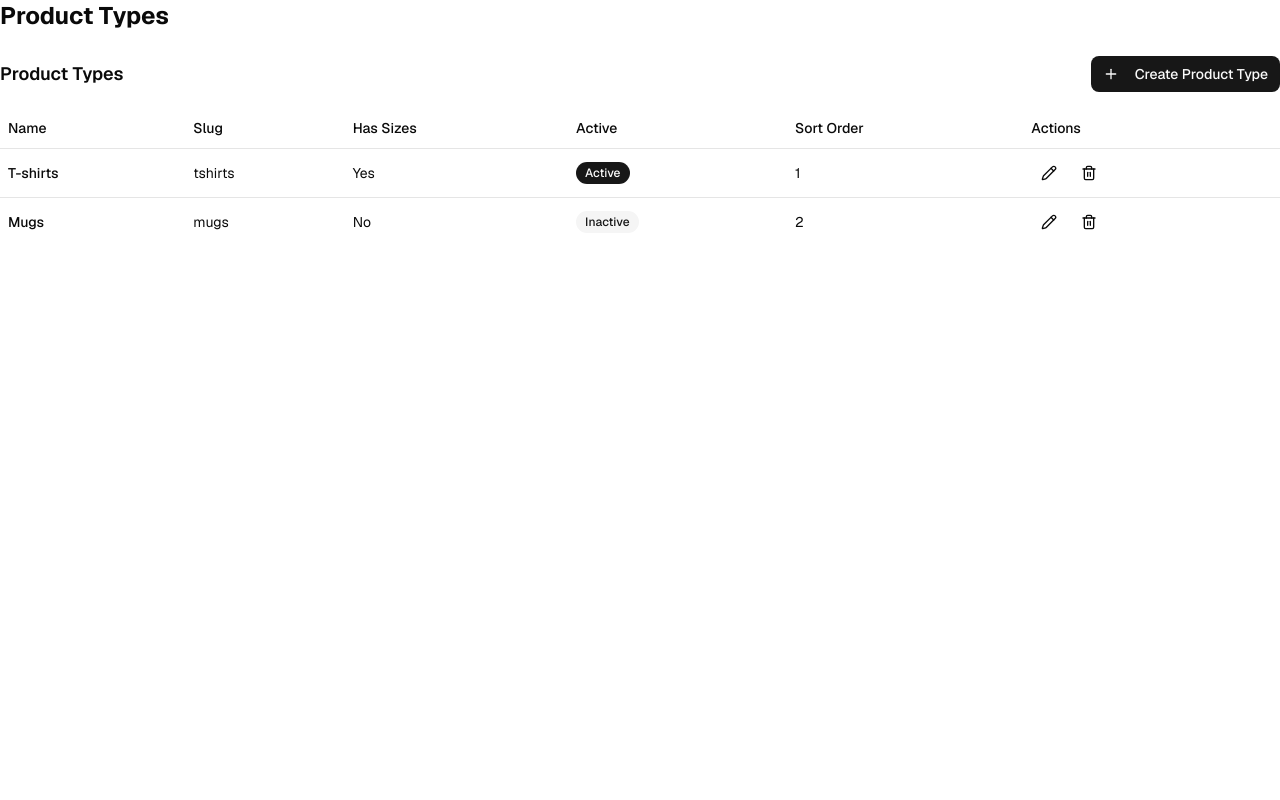
Test: ProductTypesPage › should open create dialog on "Create Product Type" click
This screenshot has width=1280, height=800.
Check: the text "T-shirts" is shown, box [0,148,185,197]
Click the button "Create Product Type" at [1185, 74], box [1091,56,1279,92]
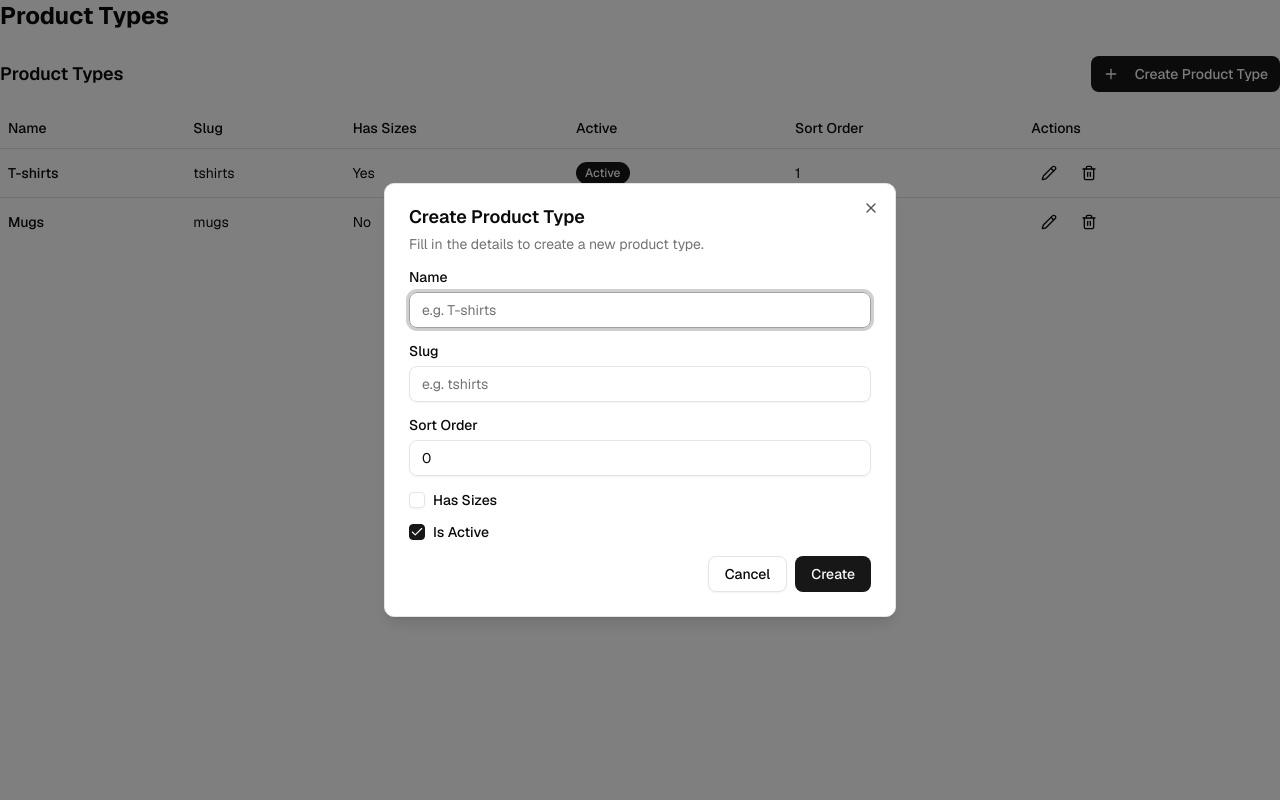
Check: the text "Fill in the details to create a new product type." is shown, box [409,235,704,253]
